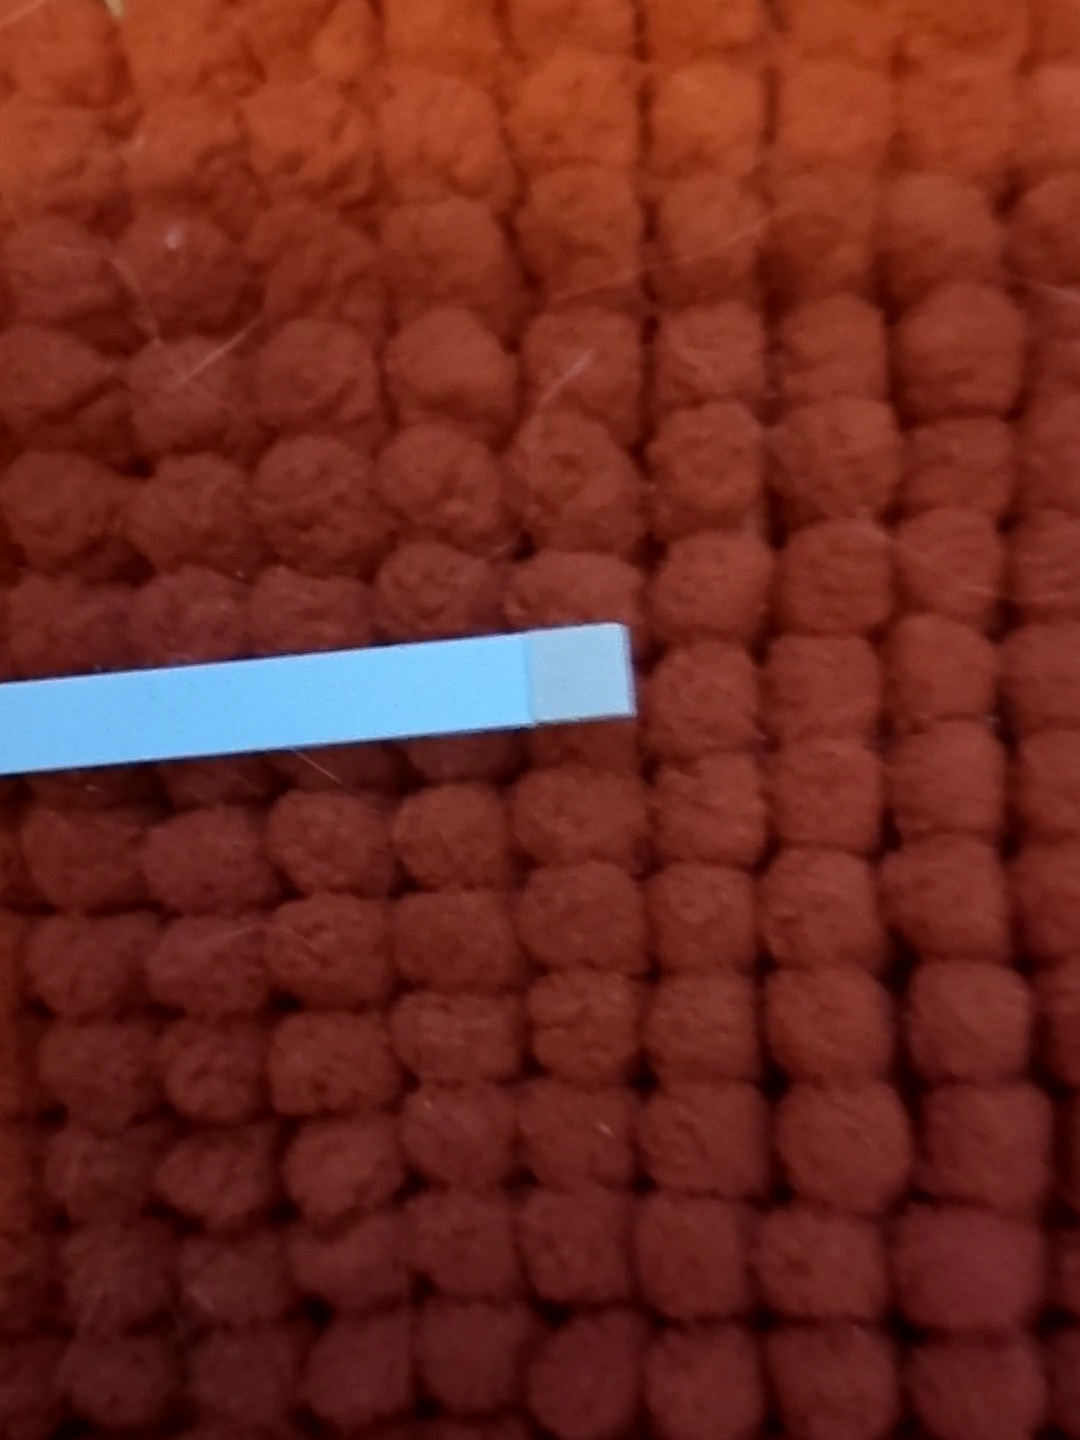keto-tip: (516, 619, 644, 730)
